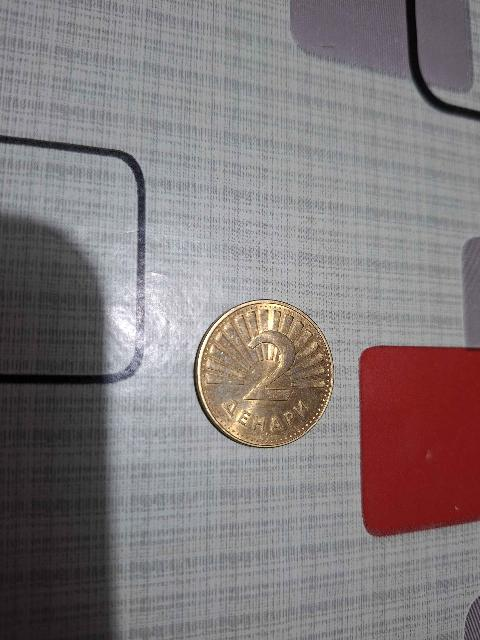coin: (195, 300, 333, 447)
